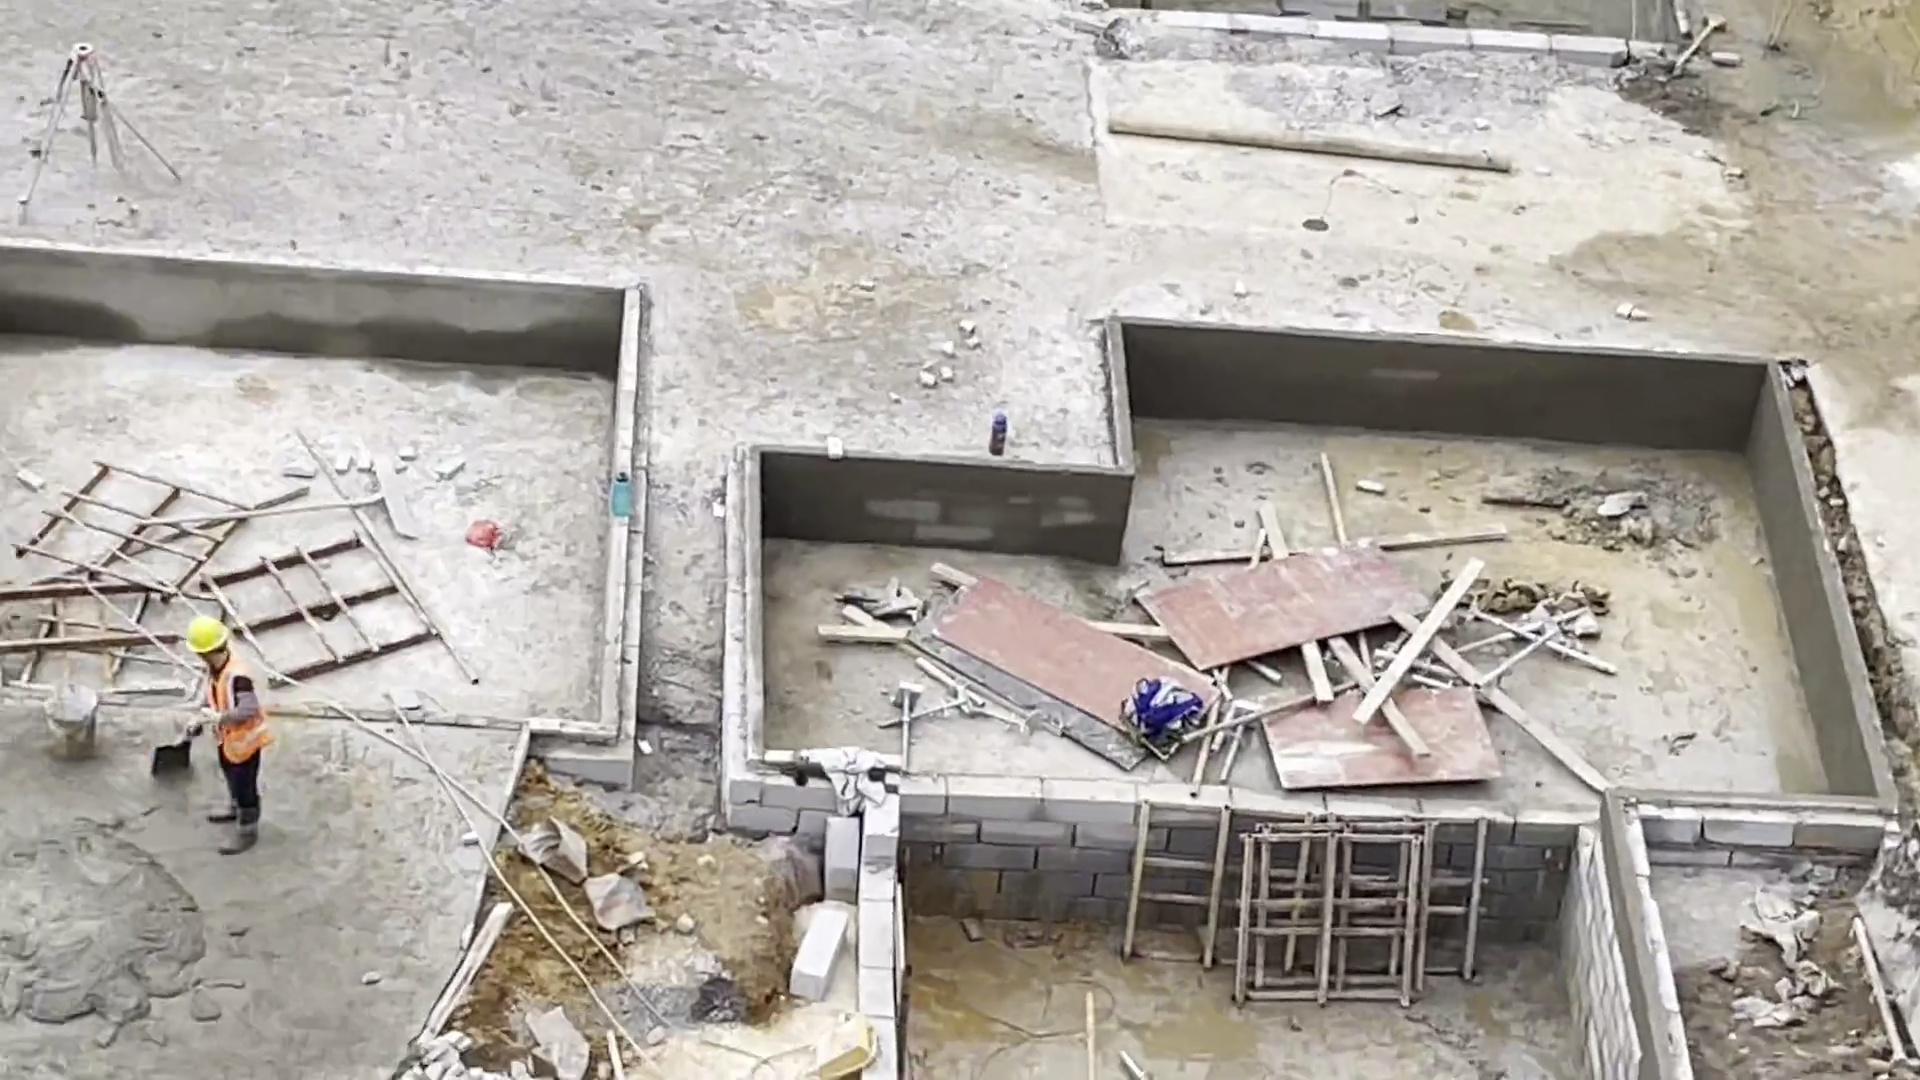helmet: (186, 615, 230, 655)
person: (184, 617, 275, 857)
vest: (205, 662, 273, 766)
